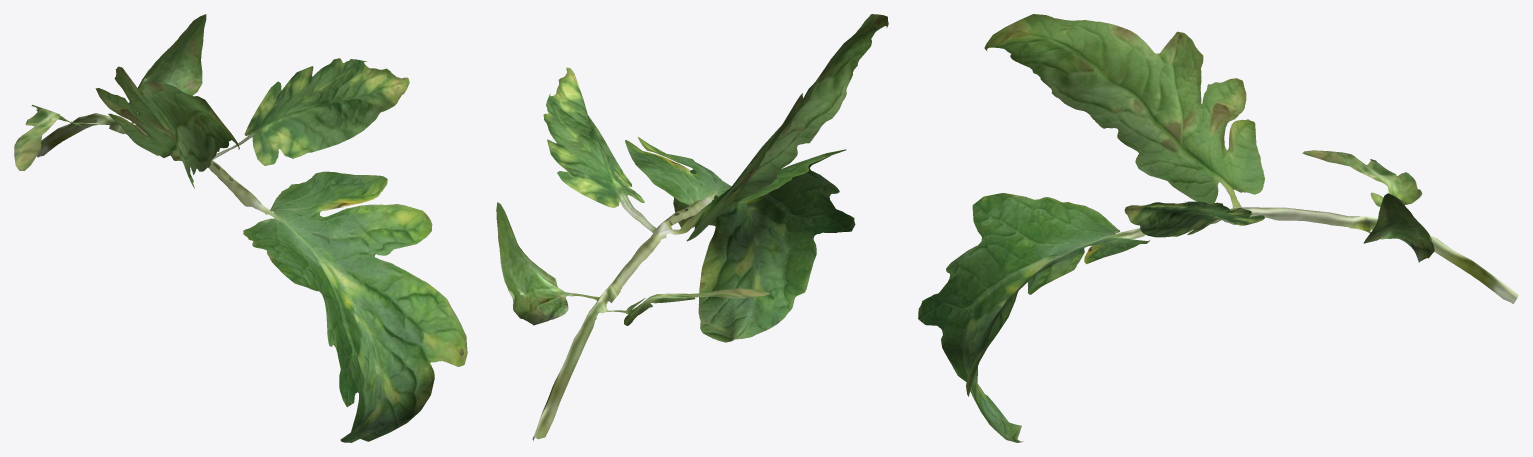
Rendered from Branch_02.fbx.
3 renders of one model, left to right at view 1: azimuth 30°, elevation 25°; view 2: azimuth 150°, elevation 25°; view 3: azimuth 270°, elevation 25°, orthographic. The views are drawn at different scales.
Visible parts, largest first — view 1: Tomat3_Stvol.002; view 2: Tomat3_Stvol.002; view 3: Tomat3_Stvol.002.
Part boxes in pixels (x1,y1,x2,y2): Tomat3_Stvol.002: (14,14,467,442); Tomat3_Stvol.002: (496,14,888,440); Tomat3_Stvol.002: (918,14,1518,442).
Size of the model in its own units: 792 by 952 by 1465.
